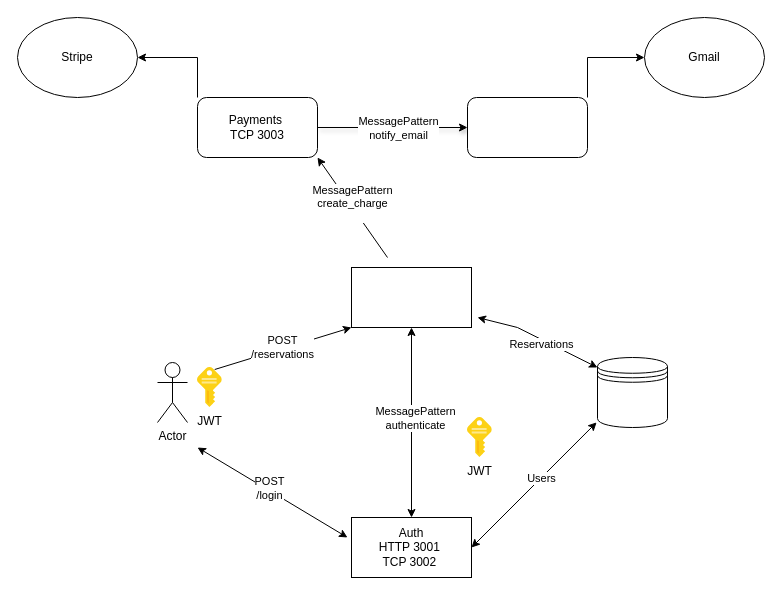
This 782x595 diagram has some shape labels left out. Here are the shapes that lost their labels. From the top down, the centre of each, then its label:
pixel 527 127: Notifications TCP 3004
pixel 411 297: Reservations HTTP 3000
pixel 632 392: MongoDB
